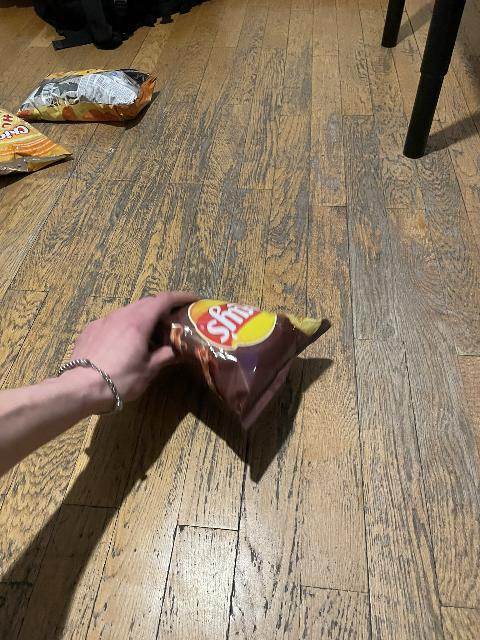Chio Cascaval 125g: (16, 68, 159, 122)
Chio Hula Hoops Cheese 70g: (0, 105, 74, 174)
Lays Beef Grilled Ribs 125g: (148, 290, 332, 429)
